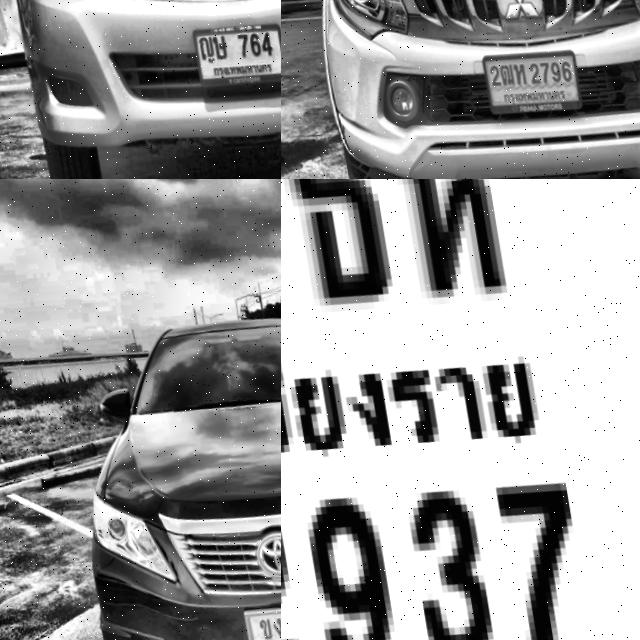license-plate: (281, 179, 640, 640), (477, 31, 583, 120), (188, 6, 281, 88), (238, 583, 281, 640)
